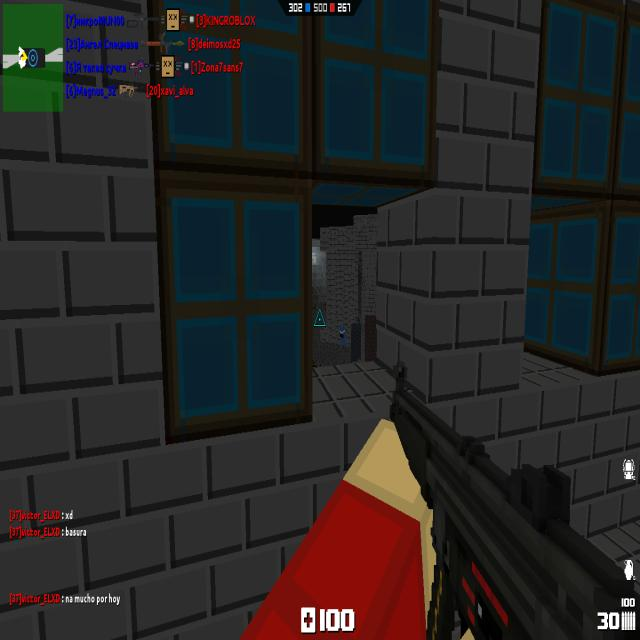enemy: (339, 324, 346, 350), (312, 252, 316, 264)
